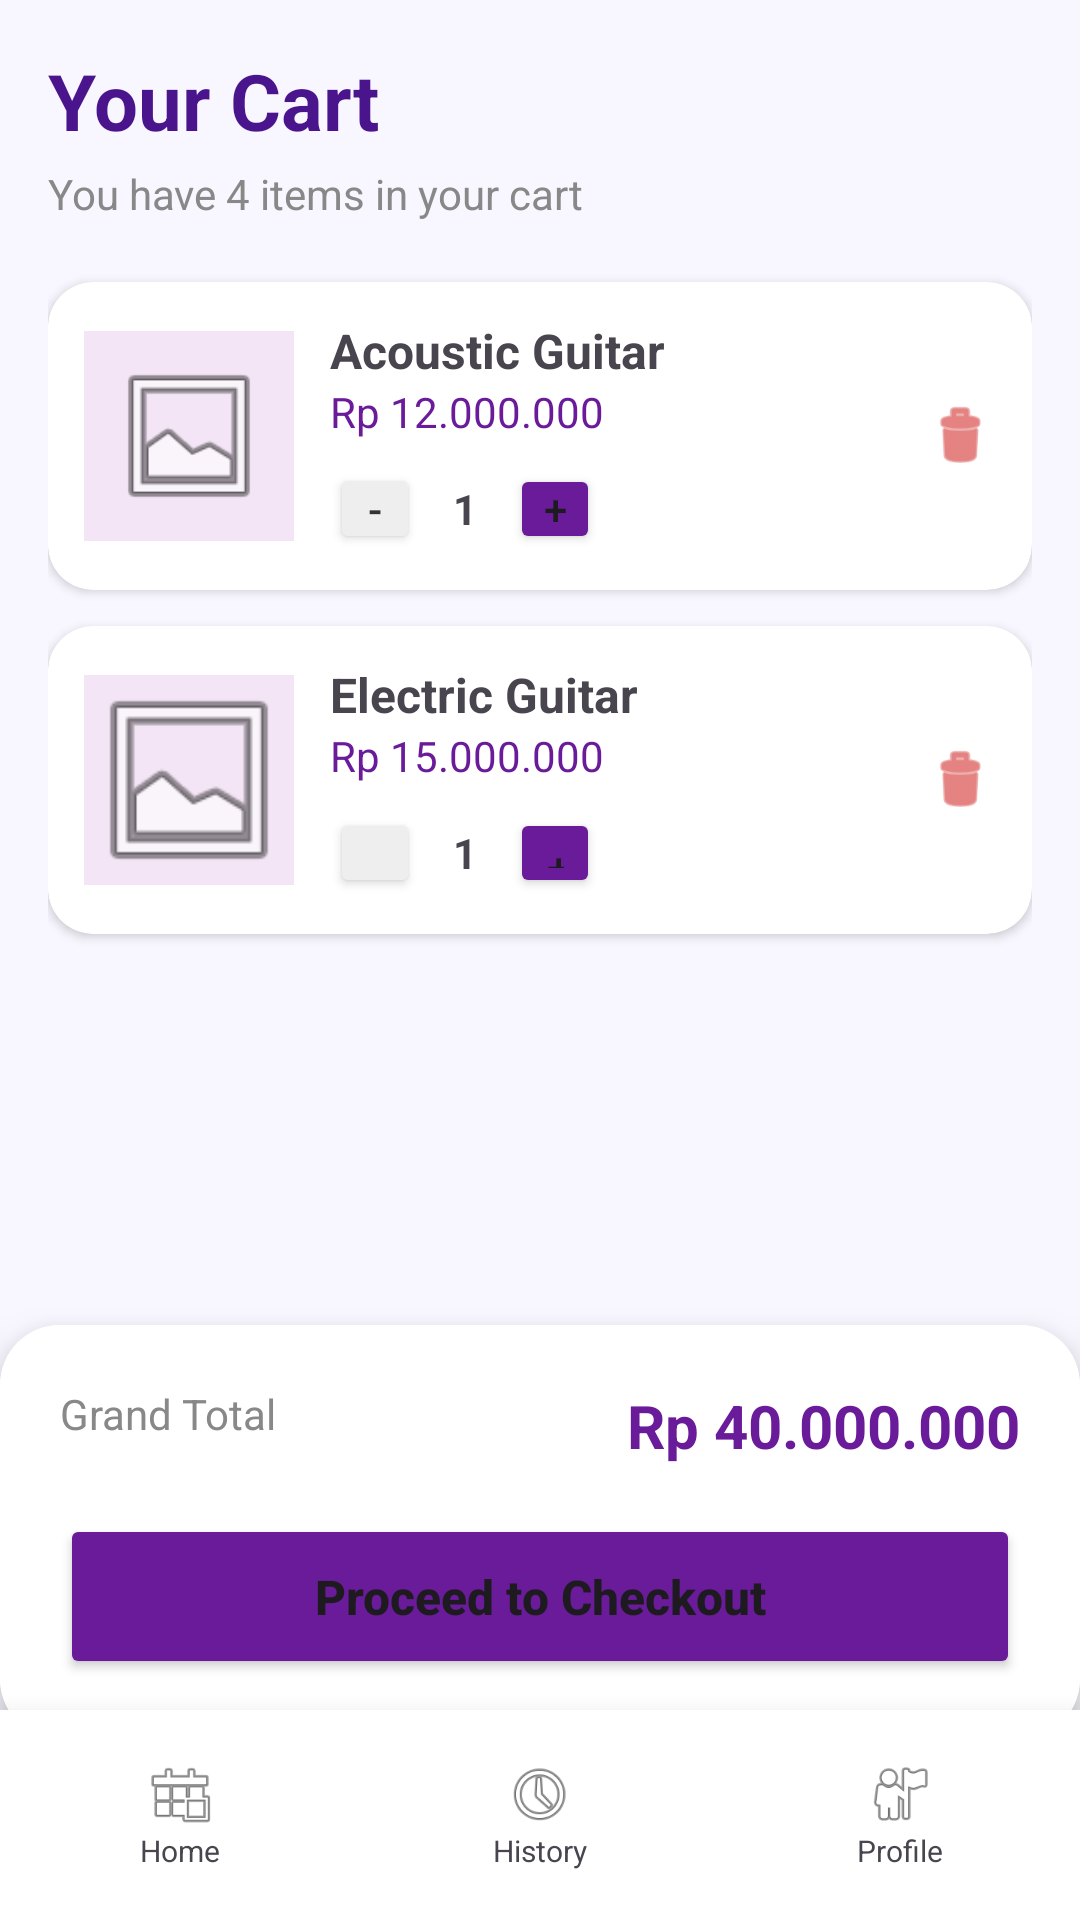

Where to tap for icons on this 1080*1920 app screen, as (x,y):
delete: (960,435), (960,779)
gallery: (189,436), (189,780)
myplaces: (901,1794)
today: (180,1795)
